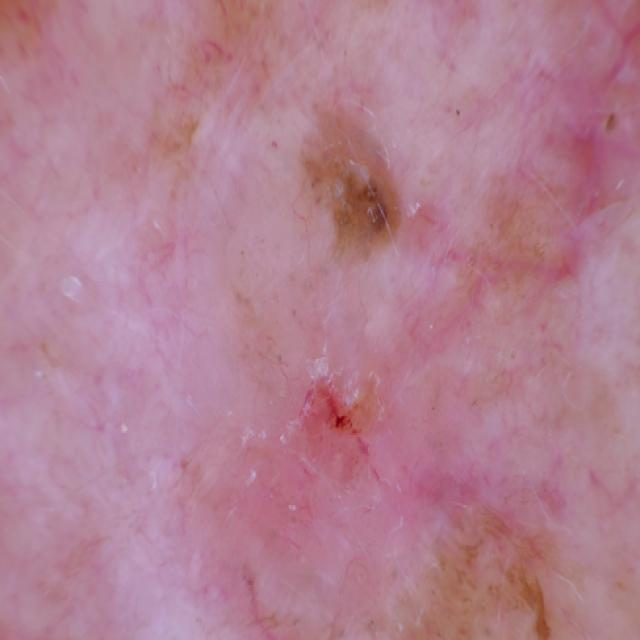Carcinoma: (276, 93, 452, 322), (432, 513, 598, 640)
